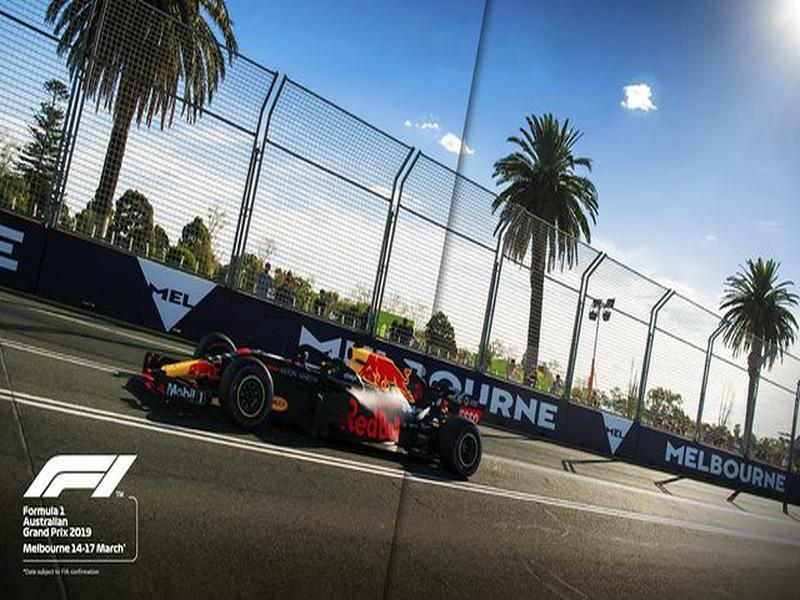f1: (127, 326, 498, 481)
